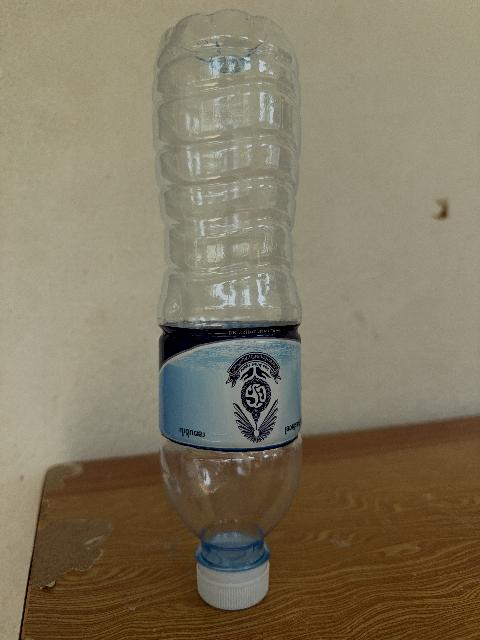bottle: (153, 11, 300, 609)
